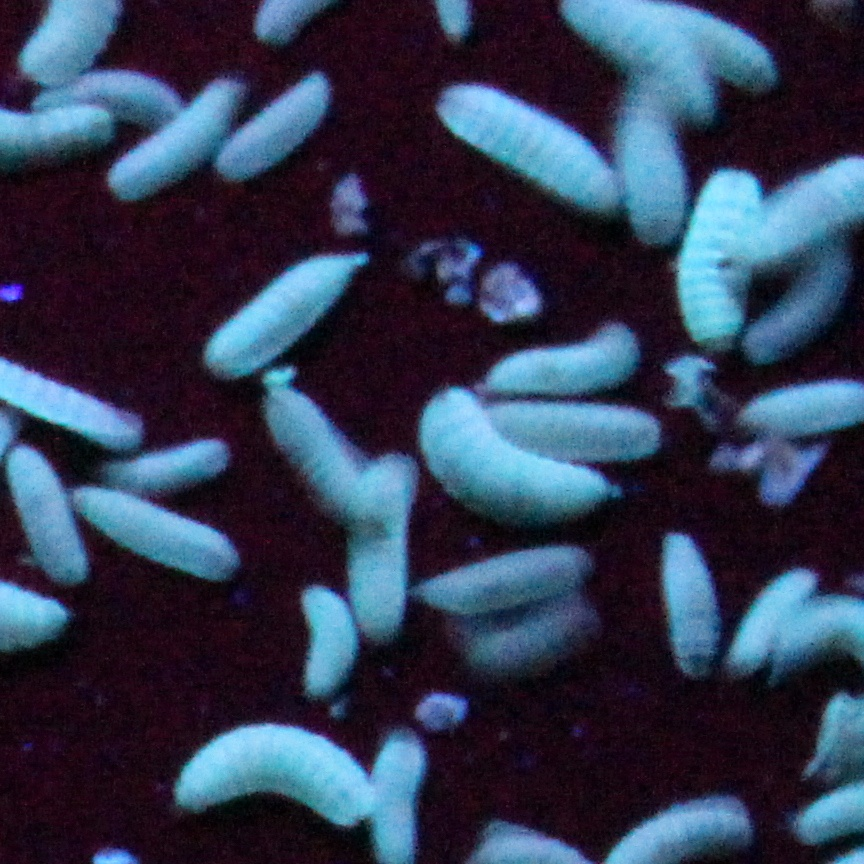larve: (407, 385, 615, 513), (425, 78, 603, 213), (175, 726, 369, 832), (259, 380, 377, 526), (210, 255, 362, 365), (113, 68, 241, 196), (679, 168, 761, 349), (80, 493, 239, 578), (482, 318, 639, 395), (2, 442, 84, 585), (605, 67, 677, 229), (416, 544, 585, 613), (221, 70, 333, 172), (462, 596, 597, 680), (731, 563, 818, 681), (354, 452, 405, 645), (652, 531, 716, 673), (479, 414, 666, 459), (108, 429, 234, 486), (34, 75, 179, 122), (300, 588, 351, 703)
